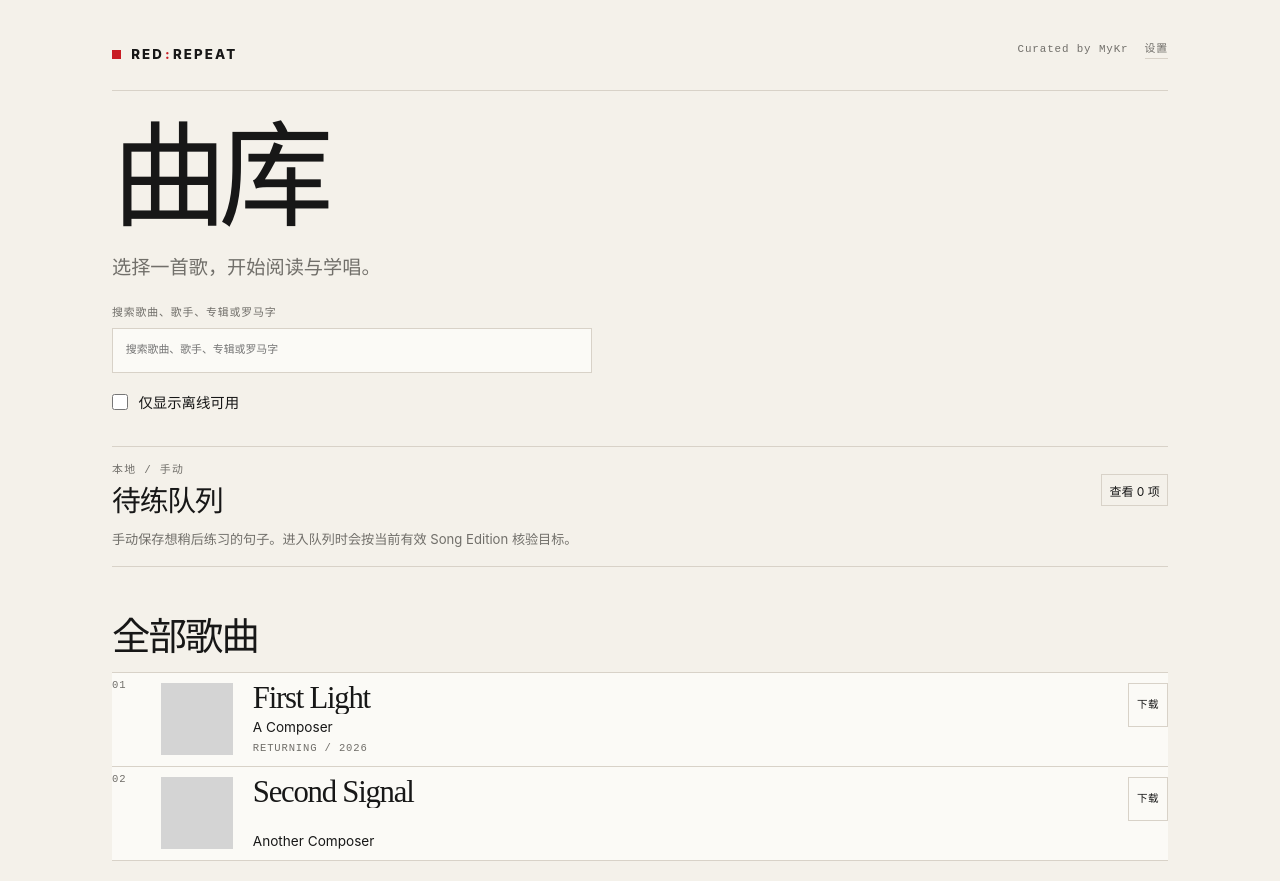
Test: App Library consumer › keeps one download task observable across a same-document route change and allows cancellation
The width and height of the screenshot is (1280, 881).
Click the button with aria-label "下载 First Light". click: (1148, 706)
box: [1128, 684, 1168, 728]
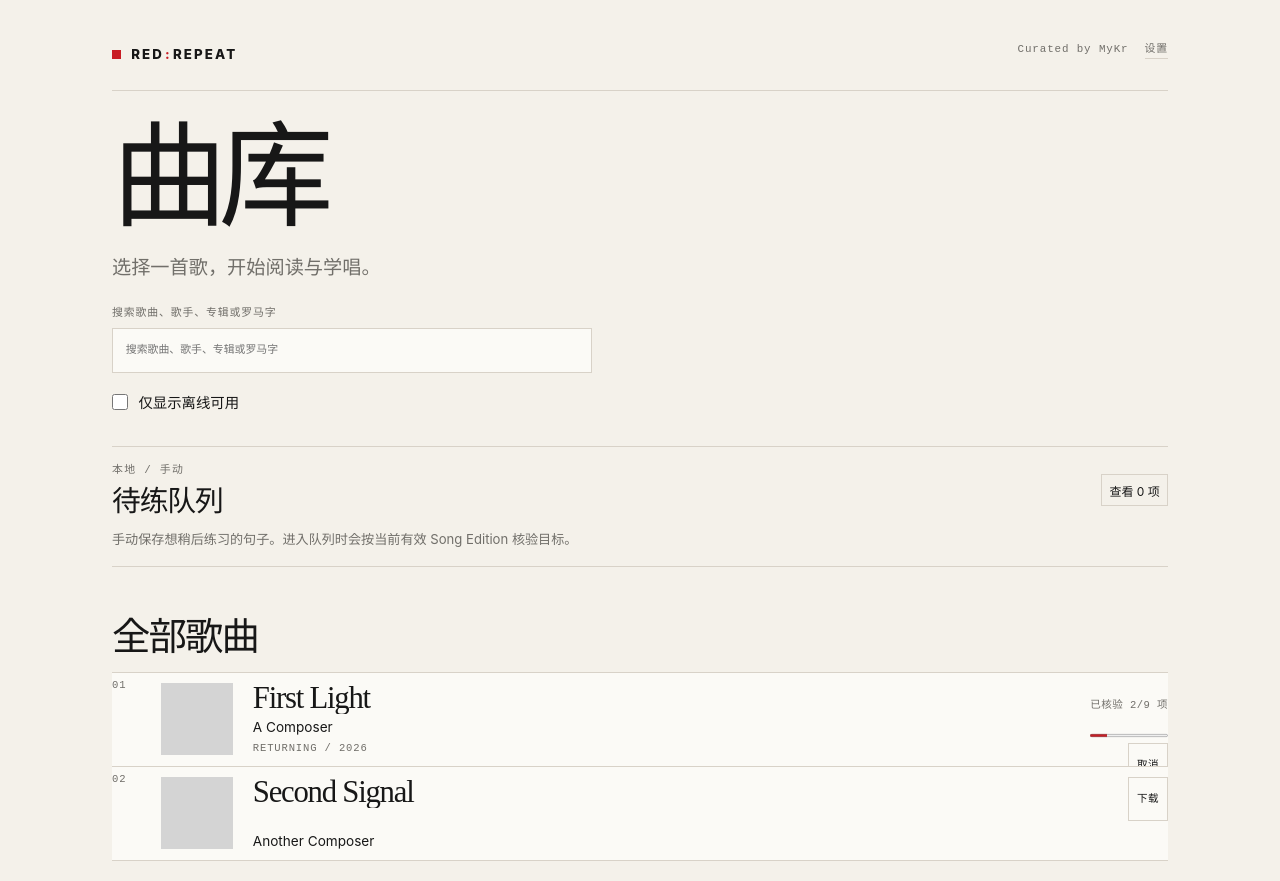
Check: the text "已核验 2/9 项" is shown, box [1090, 699, 1168, 711]
Click the link "设置". click: (1156, 50)
box: [1144, 42, 1168, 59]
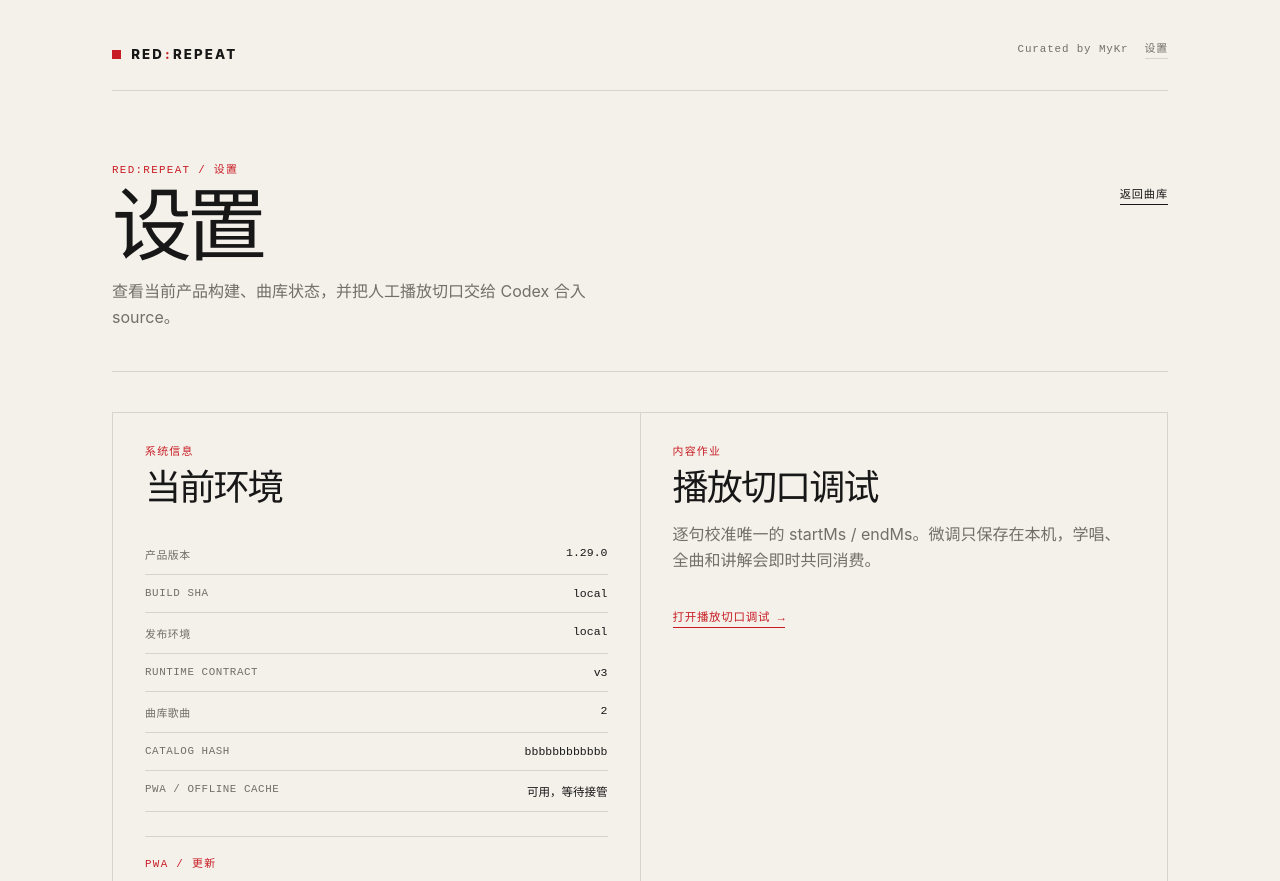
Check: the heading "设置" is shown, box [112, 183, 261, 271]
Click the link "返回曲库". click: (1144, 196)
box: [1120, 187, 1168, 205]
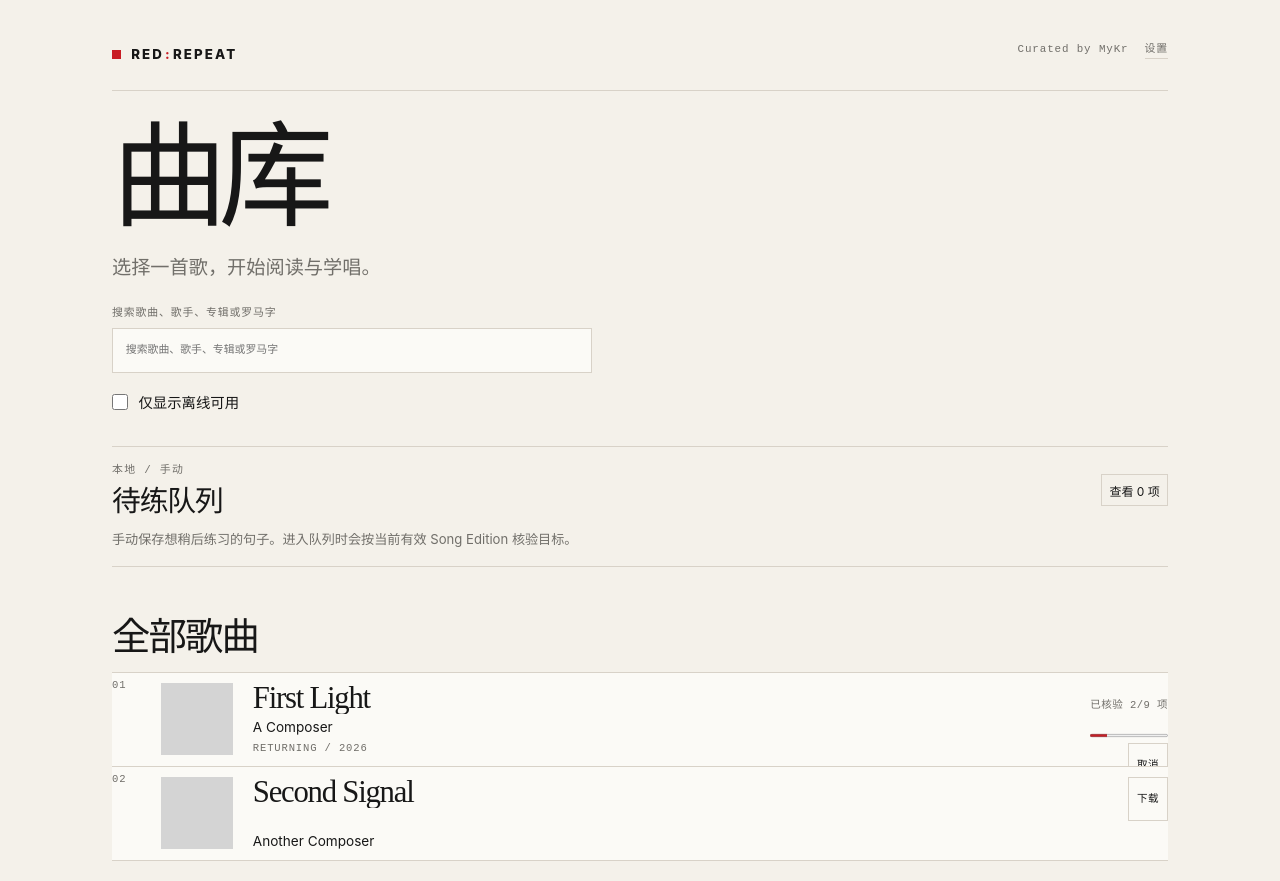
Check: the text "已核验 2/9 项" is shown, box [1090, 699, 1168, 711]
Click the button with aria-label "取消下载 First Light". click: (1148, 766)
box: [1128, 744, 1168, 788]
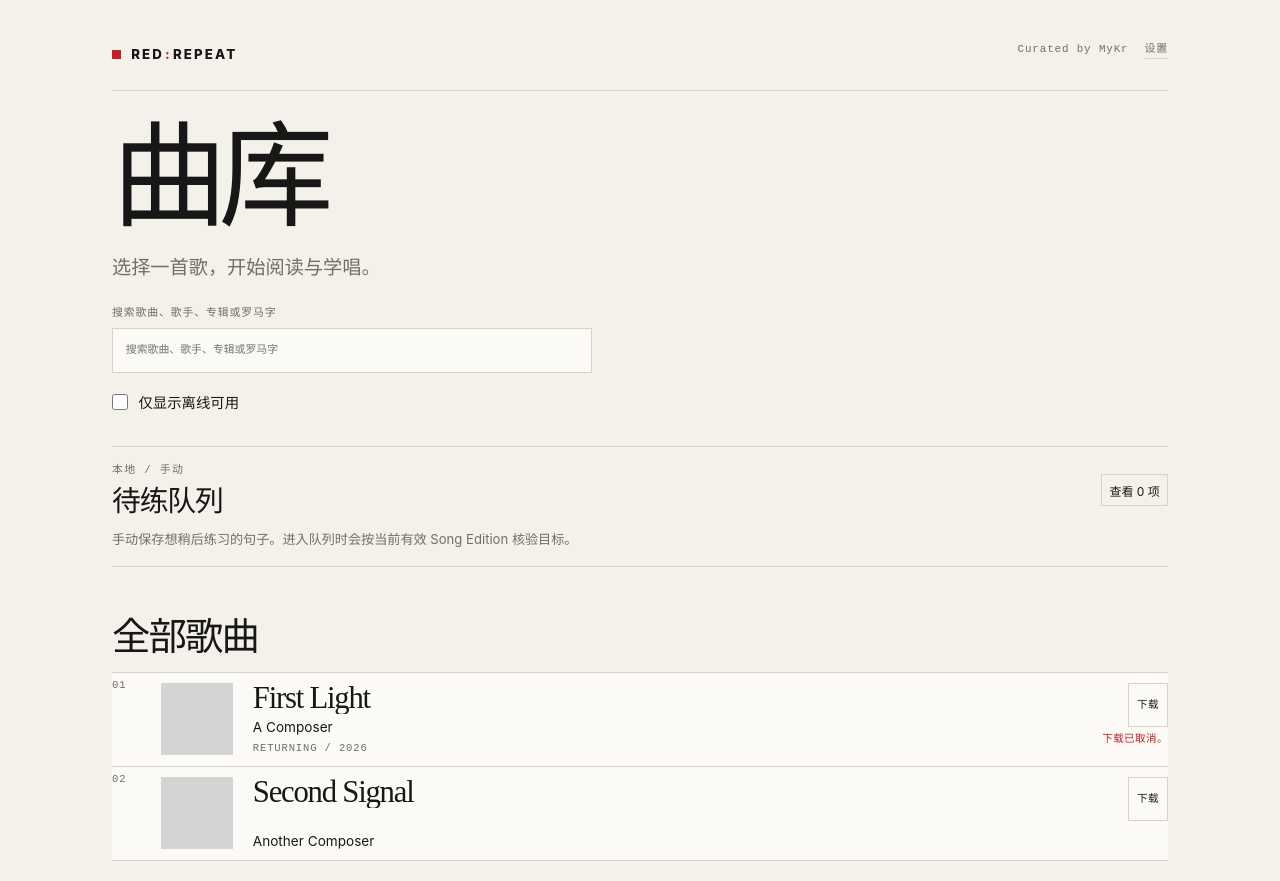
Check: the button with aria-label "下载 First Light" is shown, box [1128, 684, 1168, 728]
Check: the text "下载已取消。" is shown, box [1102, 733, 1168, 747]
